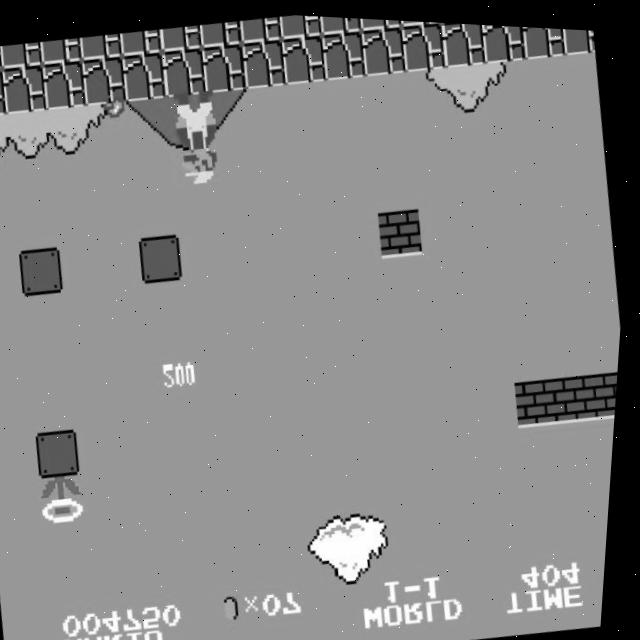1- brick_block: (378, 202, 429, 256), (556, 366, 607, 419), (517, 371, 567, 424), (597, 363, 622, 413)
17- undestructible_block: (0, 62, 51, 116), (40, 57, 91, 111), (159, 44, 210, 98), (199, 39, 250, 93), (239, 34, 290, 88), (358, 20, 409, 74), (279, 30, 330, 83), (398, 16, 449, 69), (80, 53, 130, 107), (120, 48, 170, 102), (319, 25, 369, 79), (438, 18, 488, 65), (478, 20, 528, 61), (517, 21, 567, 55), (39, 35, 85, 66), (79, 31, 125, 62), (238, 12, 284, 43), (0, 40, 45, 71), (119, 26, 164, 57), (159, 22, 204, 52), (199, 17, 244, 47), (278, 11, 323, 38), (559, 23, 597, 50), (318, 13, 363, 34), (357, 15, 402, 28), (0, 68, 10, 121), (398, 16, 442, 24)
3- empty_block: (139, 230, 190, 284), (20, 244, 70, 298), (39, 427, 89, 480)
4- fire_mario: (167, 85, 229, 187)
5- fireball: (103, 91, 128, 121), (0, 152, 3, 181)
6- flower: (42, 471, 94, 528)
